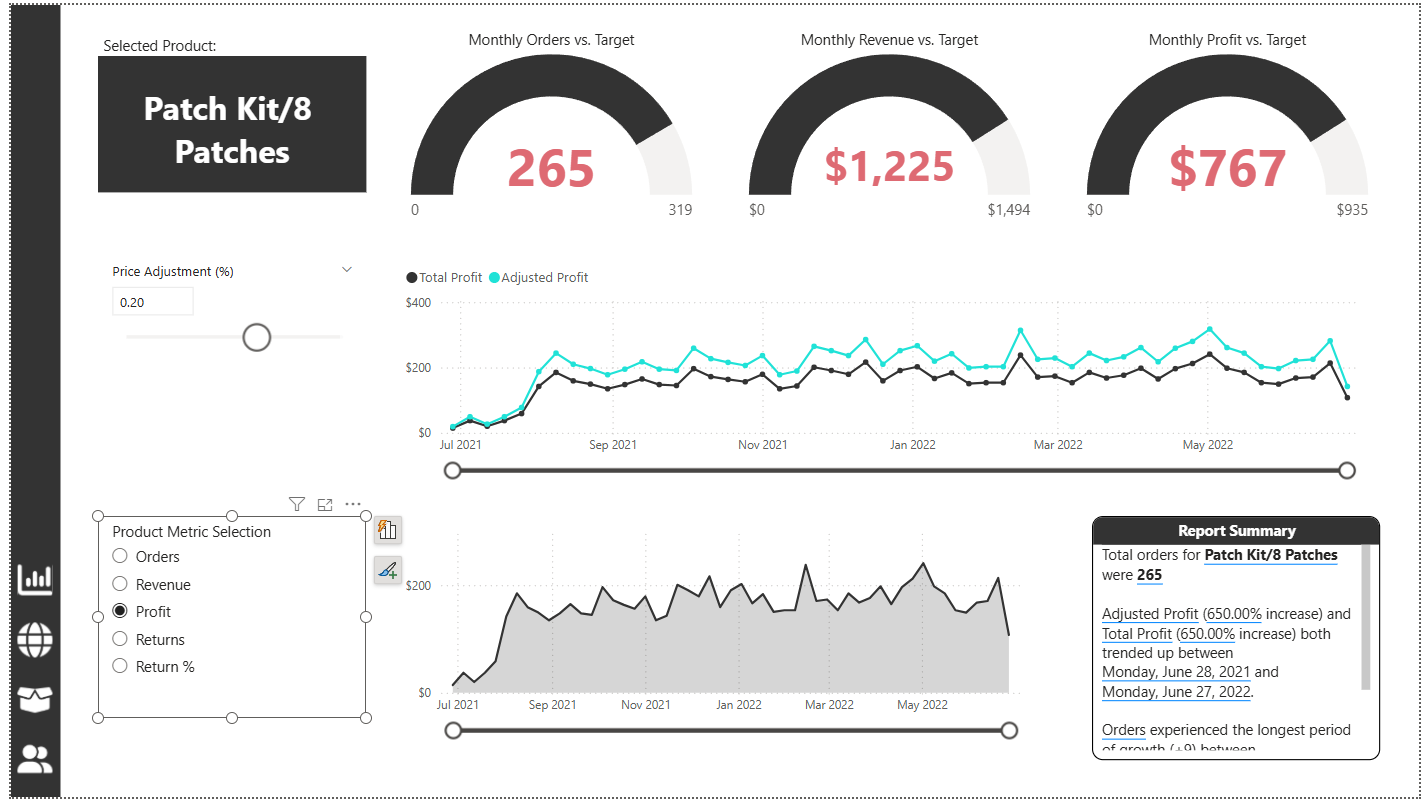

The page's visual inventory and layout, read from the dashboard file:
{"tool":"powerbi","page":{"name":"Product Detail","canvas":[1280,720],"ordinal":2},"visuals":[{"type":"shape","box":[0,0,45,720],"z":0},{"type":"actionButton","box":[2.2,502.8,42.6,39.9],"z":0,"group":"g1"},{"type":"gauge","title":"Monthly Orders vs. Target","fields":{"MaxValue":["Measure Table.Order Target"],"Y":["Measure Table.Total Orders"]},"box":[353.6,22.7,275.5,181.8],"z":1000},{"type":"actionButton","box":[2.2,557.2,42.6,39.9],"z":1000,"group":"g1"},{"type":"gauge","title":"Monthly Revenue vs. Target","fields":{"MaxValue":["Measure Table.Revenue Target"],"Y":["Measure Table.Total Revenue"]},"box":[660.9,22.7,275.5,181.8],"z":2000},{"type":"actionButton","box":[2.2,611.6,42.6,39.9],"z":2000,"group":"g1"},{"type":"gauge","title":"Monthly Profit vs. Target","fields":{"MaxValue":["Measure Table.Profit Target"],"Y":["Measure Table.Total Profit"]},"box":[968.2,22.7,275.5,181.8],"z":3000},{"type":"actionButton","box":[2.2,666,42.6,39.9],"z":3000,"group":"g1"},{"type":"lineChart","title":"Profit Trending","fields":{"Category":["Calendar Lookup.Date Hierarchy.Start of Year","Calendar Lookup.Date Hierarchy.Start of Month","Calendar Lookup.Date Hierarchy.Start of Week","Calendar Lookup.Date Hierarchy.Date"],"Y":["Measure Table.Total Profit","Measure Table.Adjusted Profit"]},"box":[353.8,227.9,890.2,205.7],"z":4000},{"type":"areaChart","title":"Return Trending","fields":{"Category":["Calendar Lookup.Date Hierarchy.Start of Year","Calendar Lookup.Date Hierarchy.Start of Month","Calendar Lookup.Date Hierarchy.Start of Week","Calendar Lookup.Date Hierarchy.Date"],"Y":["Measure Table.Total Profit"]},"box":[353.8,464.6,582.6,205.7],"z":5000},{"type":"card","fields":{"Values":["Min(Product Lookup.ProductName)"]},"box":[78.9,46.1,243.8,124.1],"z":6000},{"type":"textbox","box":[78.9,23.1,122.4,33.7],"z":7000},{"type":"group","id":"g1","title":"Navigation Buttons","box":[2.2,502.8,42.6,203.1],"z":8000},{"type":"slicer","fields":{"Values":["Price Adjustment (%).Price Adjustment (%)"]},"box":[79,227.9,243.5,112.1],"z":9000},{"type":"slicer","fields":{"Values":["Product Metric Selection.Product Metric Selection"]},"box":[78.9,464.6,243.8,183.5],"z":10000},{"type":"textbox","title":"Report Summary","box":[982.5,464.6,261.6,221.7],"z":11000}]}

Visuals, with their boxes on the page's 1280x720 design canvas (x1, y1, x2, y2). These are canvas units, not pixel positions in the 1426x808 screenshot, which may show the page scaled, cropped or inside an application window:
shape: pyautogui.locateOnScreen(0, 0, 45, 720)
actionButton: pyautogui.locateOnScreen(2, 503, 45, 543)
"Monthly Orders vs. Target" gauge: pyautogui.locateOnScreen(354, 23, 629, 204)
actionButton: pyautogui.locateOnScreen(2, 557, 45, 597)
"Monthly Revenue vs. Target" gauge: pyautogui.locateOnScreen(661, 23, 936, 204)
actionButton: pyautogui.locateOnScreen(2, 612, 45, 652)
"Monthly Profit vs. Target" gauge: pyautogui.locateOnScreen(968, 23, 1244, 204)
actionButton: pyautogui.locateOnScreen(2, 666, 45, 706)
"Profit Trending" lineChart: pyautogui.locateOnScreen(354, 228, 1244, 434)
"Return Trending" areaChart: pyautogui.locateOnScreen(354, 465, 936, 670)
card - Min(Product Lookup.ProductName): pyautogui.locateOnScreen(79, 46, 323, 170)
textbox: pyautogui.locateOnScreen(79, 23, 201, 57)
"Navigation Buttons" group: pyautogui.locateOnScreen(2, 503, 45, 706)
slicer - Price Adjustment (%).Price Adjustment (%): pyautogui.locateOnScreen(79, 228, 322, 340)
slicer - Product Metric Selection.Product Metric Selection: pyautogui.locateOnScreen(79, 465, 323, 648)
"Report Summary" textbox: pyautogui.locateOnScreen(982, 465, 1244, 686)
